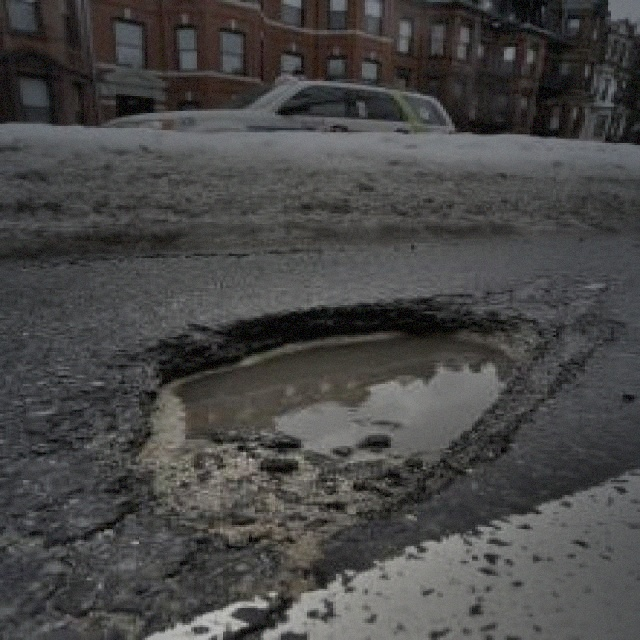pothole: (122, 284, 527, 540)
